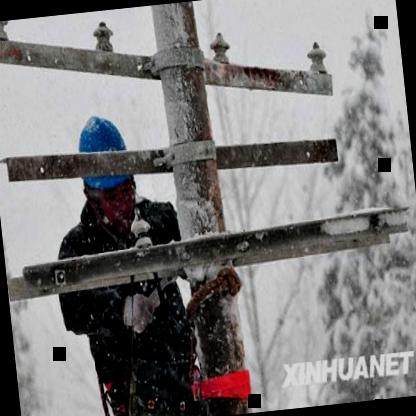helmet: (68, 108, 148, 238)
